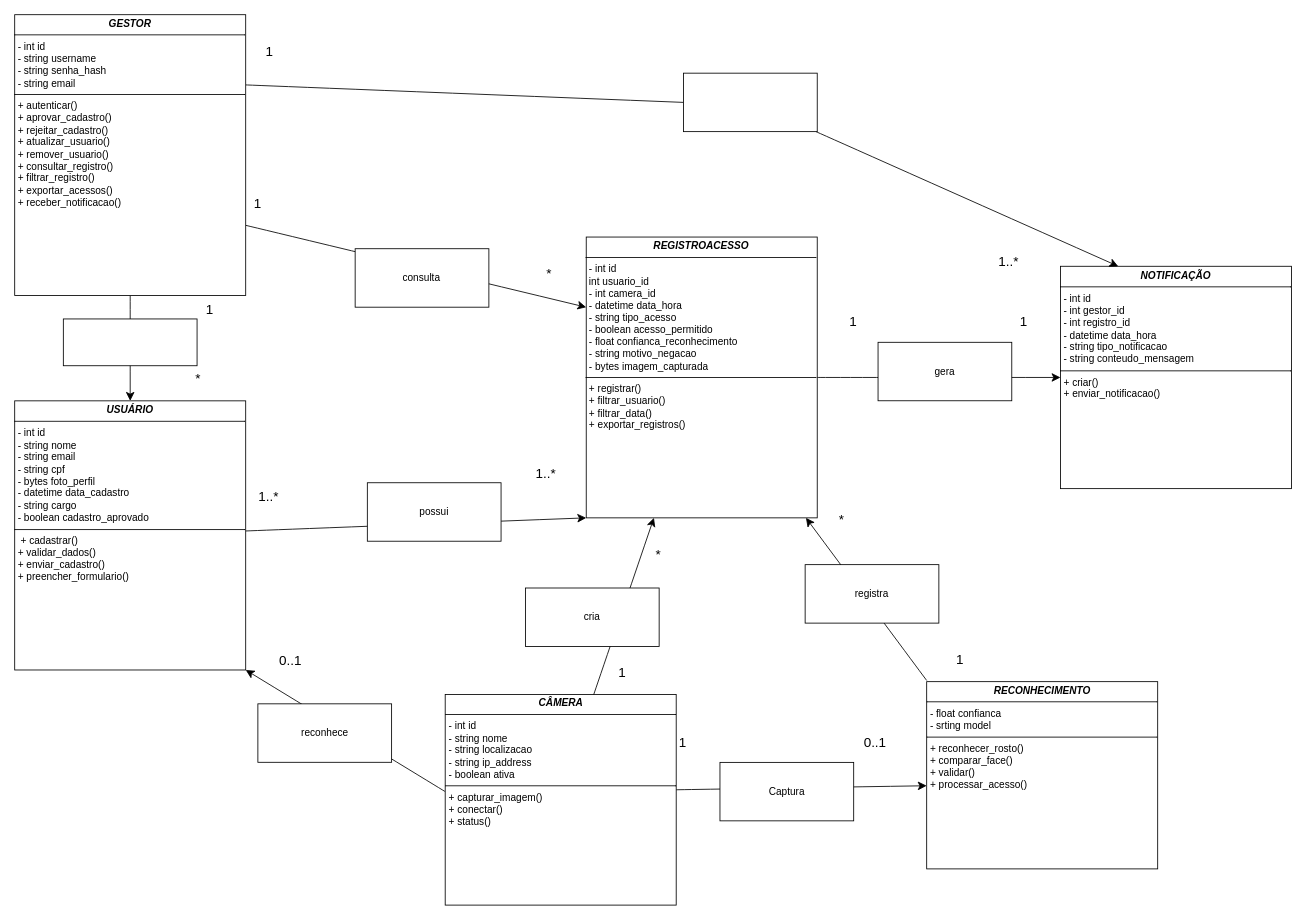
Image size: 1306x920. Some labels were removed from this diagram. Here are the shapes that lost their labels. From the top down, the centre of each, then its label:
pixel 750 102: recebe
pixel 129 342: Aprova/Gerencia
